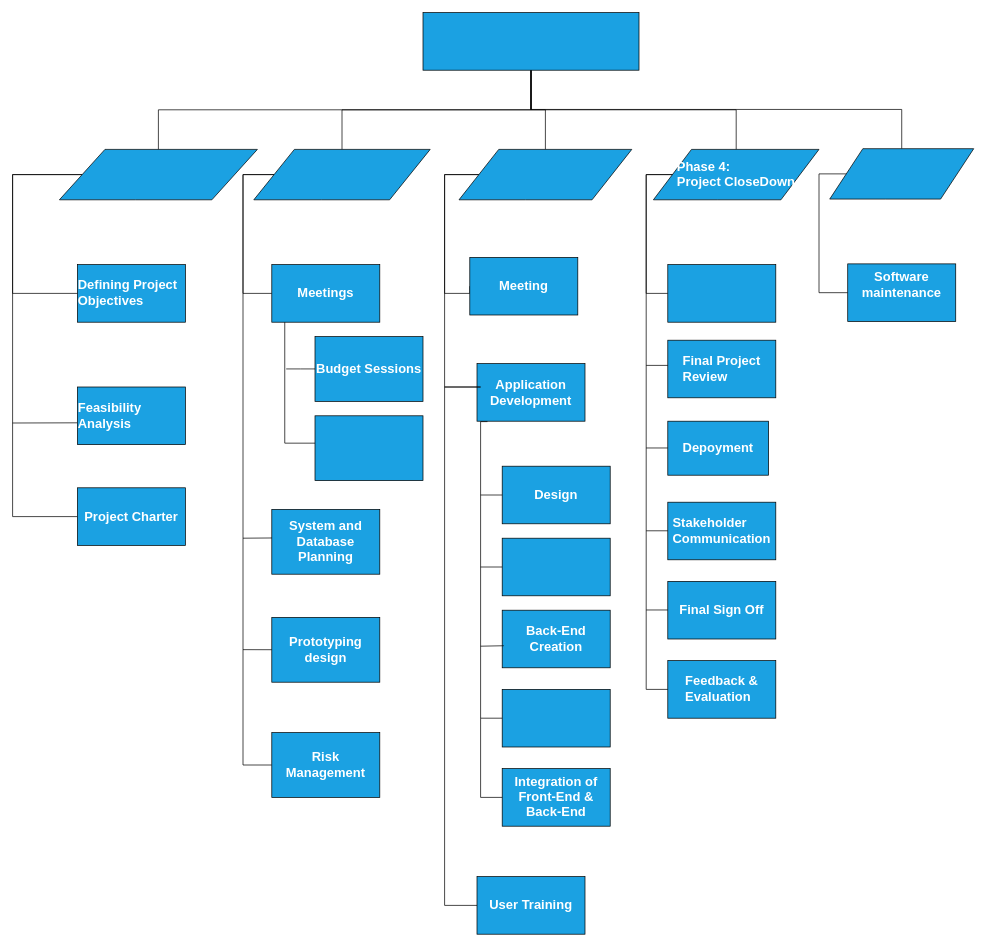
The diagram is 986 pixels wide and 947 high, and some of its shapes have lost their labels. Here are the shapes that lost their labels. From the top down, the centre of each, then its label:
the point at 530,41: PASSPORT AUTOMATION MOBILE APPLICATION
the point at 158,174: Phase 1: Project Initilization
the point at 341,174: Phase 2: Project Planning
the point at 545,174: Phase 3: Project Execution
the point at 901,173: Phase 5: Maintenence
the point at 721,293: User- Acceptance Testing(UAT)
the point at 368,448: Defining Scope
the point at 555,566: Front-End Creation
the point at 555,718: Feedback System
